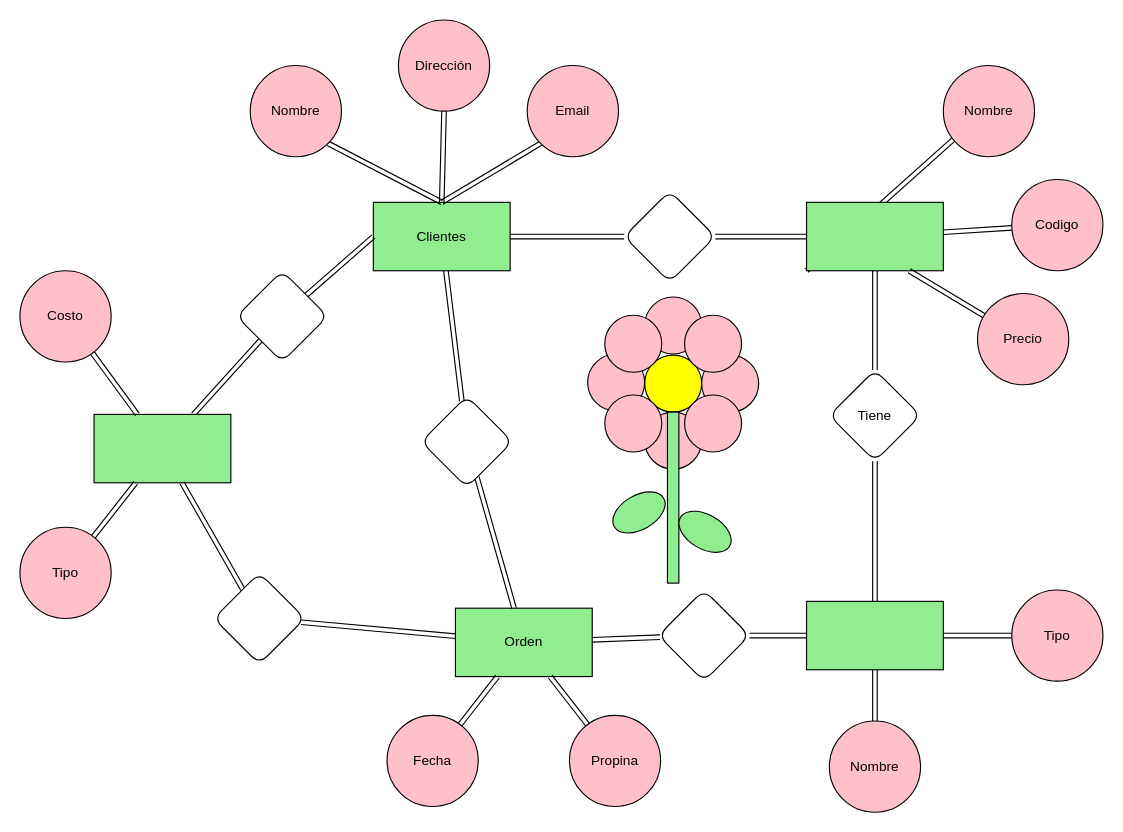
Image size: 1123x832. Some labels were removed from this diagram. Here are the shapes that lost their labels. From the top down, the box of each, then its label:
(623, 190, 715, 282): Pide
(805, 201, 943, 271): Producto
(235, 270, 328, 362): Envío producto
(93, 413, 231, 483): Entregas
(420, 395, 512, 487): Crea
(213, 572, 305, 664): Procede
(657, 589, 750, 681): Hace
(805, 600, 943, 670): Categoría
